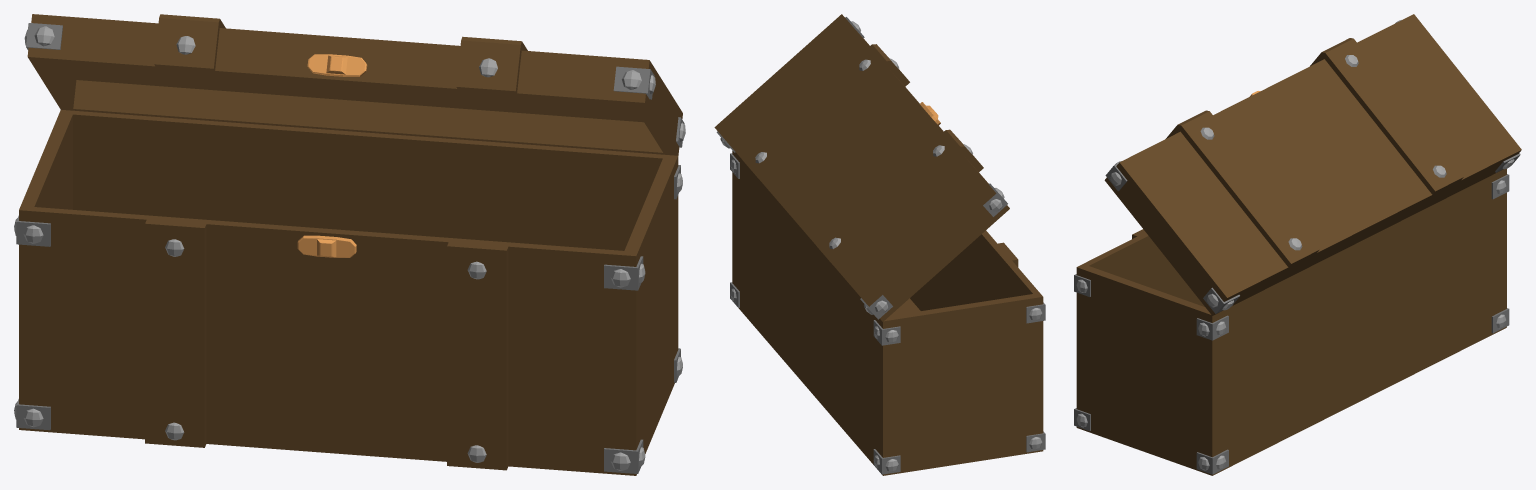
The model's file is WoodenChest.fbx.
3 renders of one model, left to right at view 1: azimuth 30°, elevation 25°; view 2: azimuth 150°, elevation 25°; view 3: azimuth 270°, elevation 25°, orthographic. The views are drawn at different scales.
Parts seen in each view (by area): view 1: chest.001; view 2: chest.001; view 3: chest.001.
Boxes of the visible parts, <box> form: chest.001: <box>14,14,685,475</box>; chest.001: <box>714,14,1045,475</box>; chest.001: <box>1074,14,1521,475</box>.
Size of the model in its own units: 109 by 71.74 by 101.
